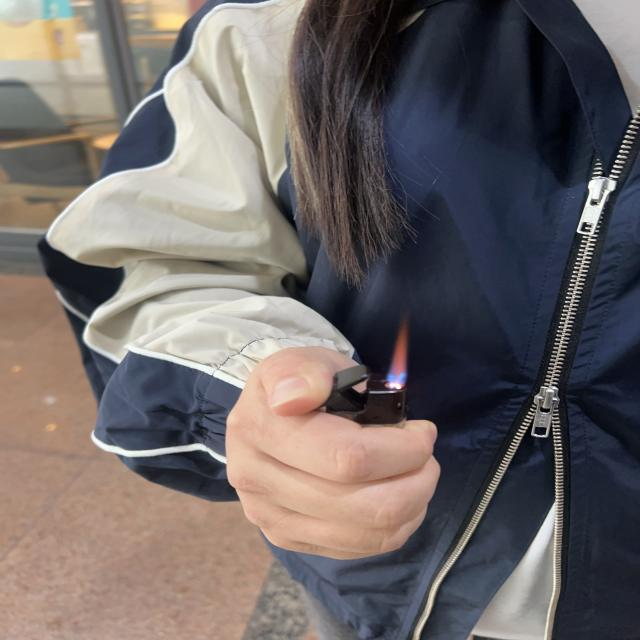fire: (383, 320, 410, 390)
